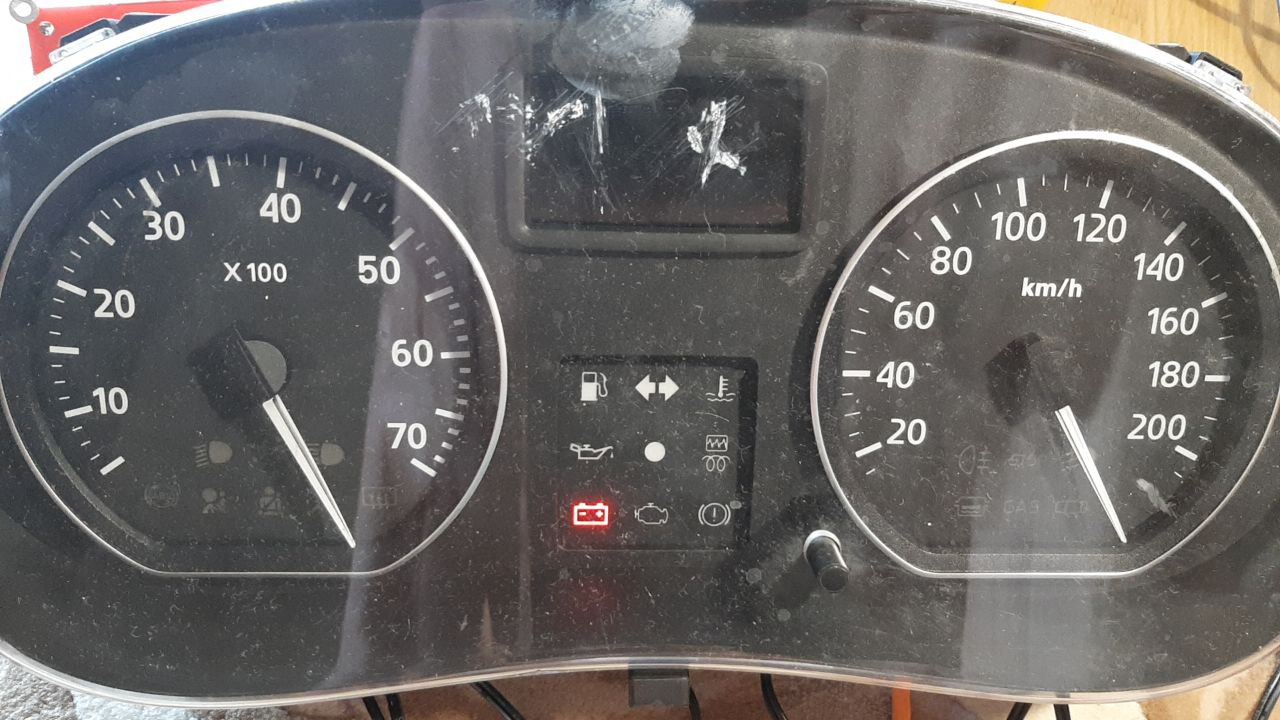accumulator: (564, 494, 611, 527)
